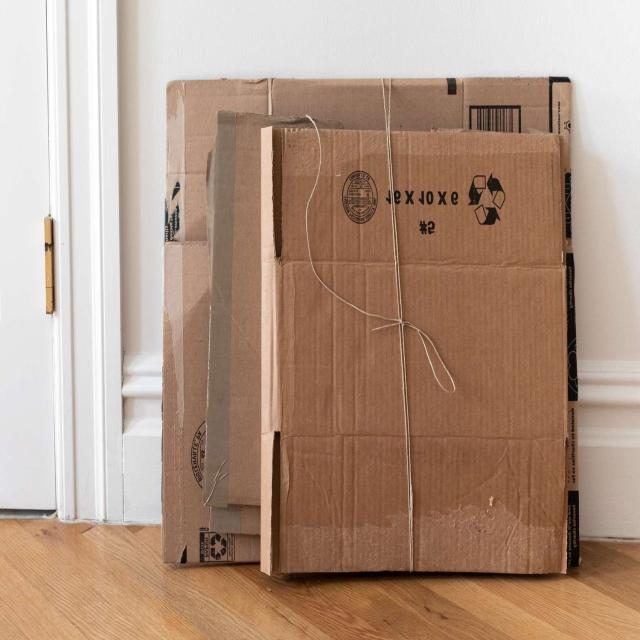cardboard: (162, 72, 580, 578)
